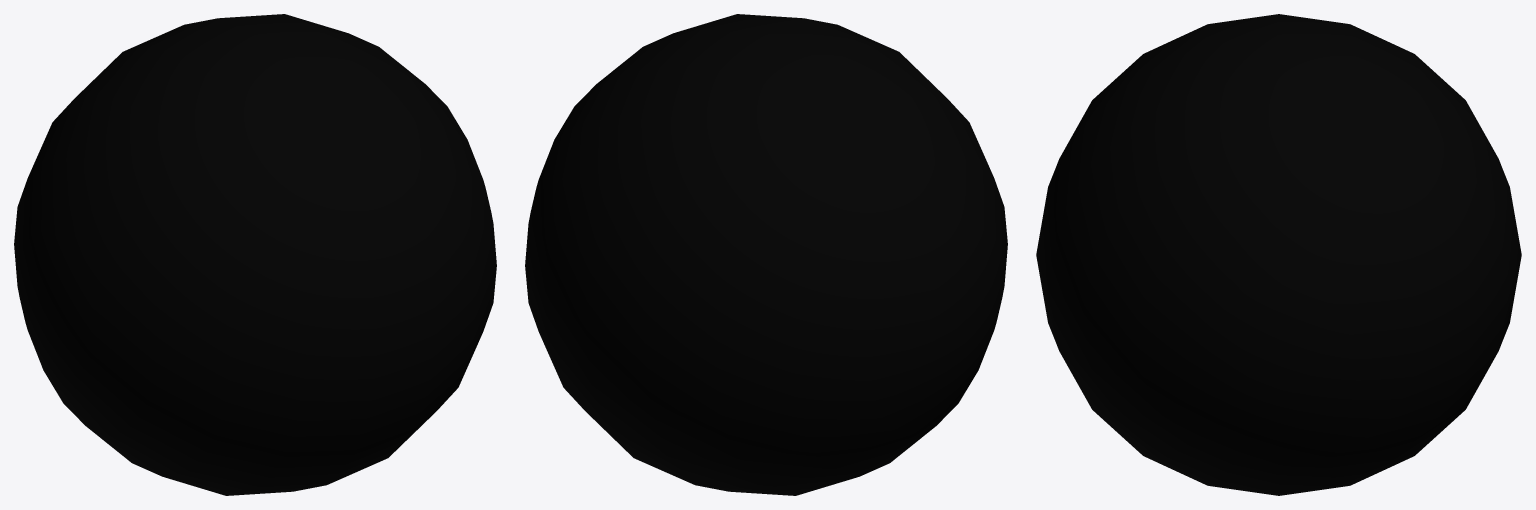
File: RElbowYaw.obj
The picture shows the model from 3 angles, left to right: view 1: azimuth 30°, elevation 25°; view 2: azimuth 150°, elevation 25°; view 3: azimuth 270°, elevation 25°; orthographic projection.
Size of the model in its own units: 0.648 by 0.648 by 0.648.
